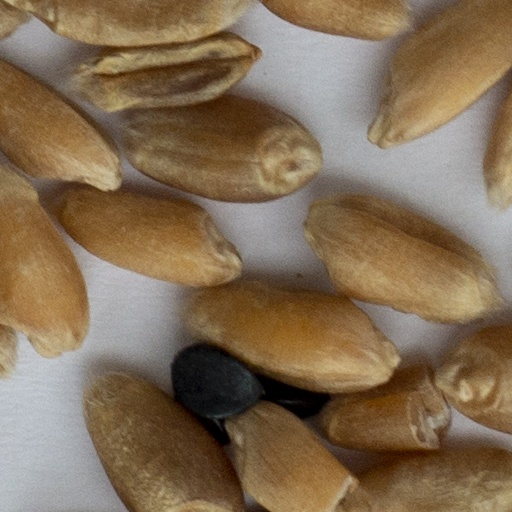Fallopia-Сonvolvulus-poly: (172, 346, 346, 416)
Wheat-grain-damaged-poly: (309, 368, 368, 449)
